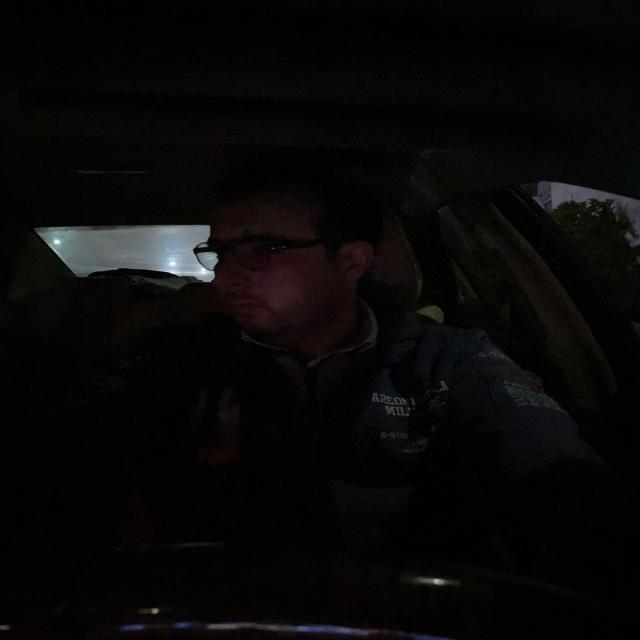LeftRight: (178, 162, 394, 362)
